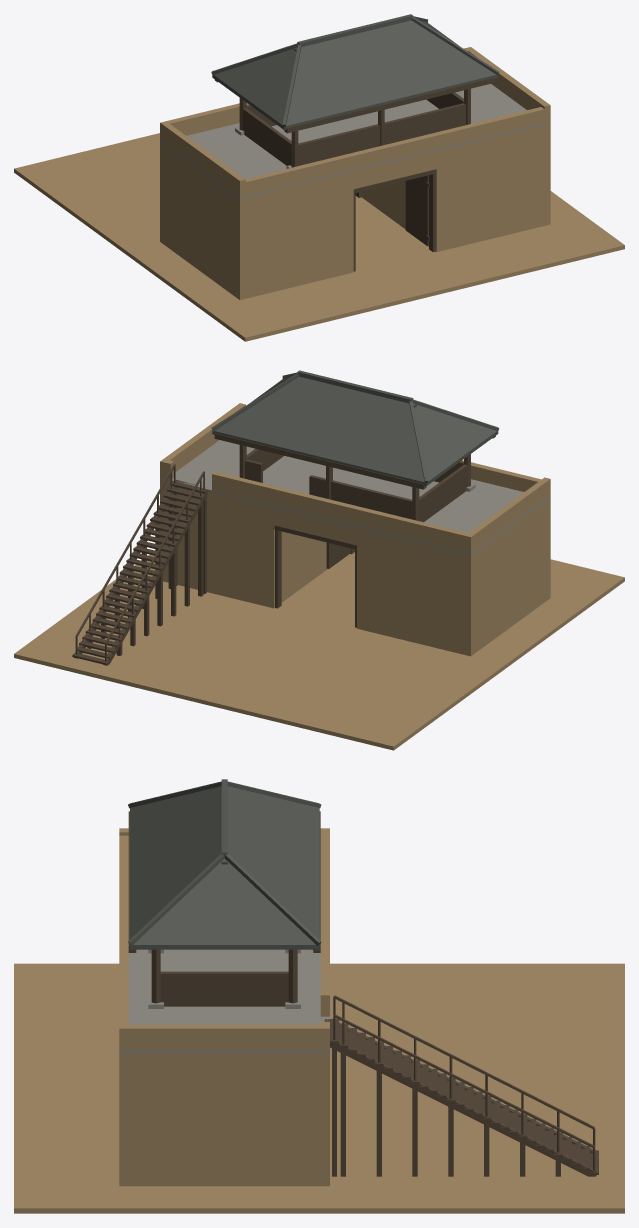
The model's file is xiaoyuan-LOD2.glb.
3 views of the same model, one above another, from view 1: azimuth 30°, elevation 25°; view 2: azimuth 150°, elevation 25°; view 3: azimuth 270°, elevation 25° (orthographic). The views are drawn at different scales.
Visible parts, largest first — view 1: BATCH_LY_P01_earth__FLAT, BATCH_LY_P01_tile__FLAT, BATCH_LY_P01_timber__FLAT, BATCH_LY_P01_stone__FLAT; view 2: BATCH_LY_P01_earth__FLAT, BATCH_LY_P01_timber__FLAT, BATCH_LY_P01_tile__FLAT, BATCH_LY_P01_stone__FLAT; view 3: BATCH_LY_P01_earth__FLAT, BATCH_LY_P01_tile__FLAT, BATCH_LY_P01_timber__FLAT, BATCH_LY_P01_stone__FLAT.
Part boxes in pixels (x1,y1,x2,y2): BATCH_LY_P01_earth__FLAT: (14, 47, 624, 341); BATCH_LY_P01_tile__FLAT: (211, 14, 499, 129); BATCH_LY_P01_timber__FLAT: (214, 48, 495, 271); BATCH_LY_P01_stone__FLAT: (160, 84, 550, 198); BATCH_LY_P01_earth__FLAT: (14, 403, 624, 750); BATCH_LY_P01_timber__FLAT: (72, 404, 495, 665); BATCH_LY_P01_tile__FLAT: (211, 370, 499, 486); BATCH_LY_P01_stone__FLAT: (160, 440, 550, 555); BATCH_LY_P01_earth__FLAT: (14, 828, 624, 1213); BATCH_LY_P01_tile__FLAT: (128, 779, 321, 949); BATCH_LY_P01_timber__FLAT: (128, 811, 598, 1176); BATCH_LY_P01_stone__FLAT: (119, 949, 329, 1052).
Size of the model in its own units: 22 by 11.53 by 23.2.
